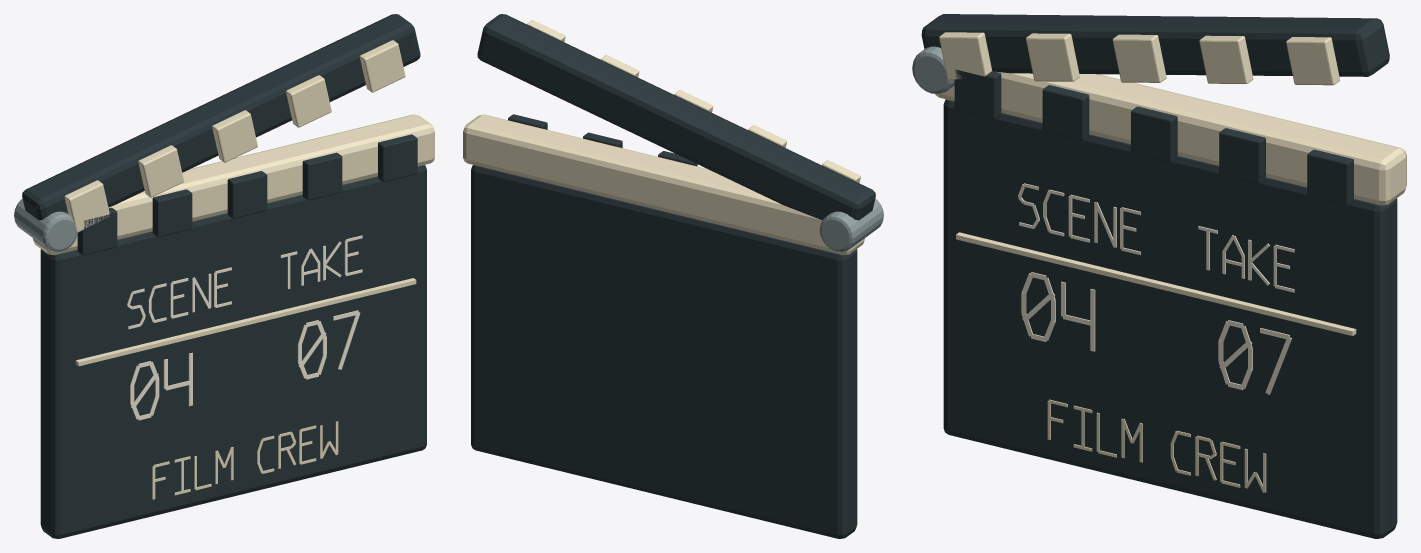
File: P051_clapperboard.glb
The picture shows the model from 3 angles, left to right: view 1: azimuth 30°, elevation 25°; view 2: azimuth 150°, elevation 25°; view 3: azimuth 330°, elevation 25°; orthographic projection. The views are drawn at different scales.
Parts seen in each view (by area): view 1: P051_slate_001, P051_clapper_top_003, P051_clapper_base_002, P051_numbers_015, P051_line_017, P051_header_014, P051_footer_018, P051_hinge_pin_016, P051_stripe_010, P051_stripe_006, P051_stripe_008, P051_stripe_009 (+6 smaller); view 2: P051_slate_001, P051_clapper_top_003, P051_clapper_base_002, P051_hinge_pin_016; view 3: P051_slate_001, P051_clapper_top_003, P051_clapper_base_002, P051_line_017, P051_numbers_015, P051_header_014, P051_footer_018, P051_stripe_006, P051_stripe_007, P051_stripe_012, P051_stripe_008, P051_stripe_010 (+6 smaller).
Part boxes in pixels (x1=…): P051_slate_001: x1=40, y1=165, x2=426, y2=538; P051_clapper_top_003: x1=22, y1=14, x2=420, y2=220; P051_clapper_base_002: x1=32, y1=114, x2=434, y2=254; P051_numbers_015: x1=130, y1=310, x2=360, y2=420; P051_line_017: x1=75, y1=278, x2=416, y2=366; P051_header_014: x1=127, y1=235, x2=362, y2=329; P051_footer_018: x1=152, y1=421, x2=338, y2=499; P051_hinge_pin_016: x1=14, y1=198, x2=77, y2=251; P051_stripe_010: x1=302, y1=152, x2=342, y2=200; P051_stripe_006: x1=152, y1=189, x2=192, y2=236; P051_stripe_008: x1=227, y1=171, x2=267, y2=218; P051_stripe_009: x1=212, y1=110, x2=257, y2=162; P051_slate_001: x1=471, y1=165, x2=857, y2=538; P051_clapper_top_003: x1=477, y1=14, x2=875, y2=220; P051_clapper_base_002: x1=463, y1=114, x2=865, y2=254; P051_hinge_pin_016: x1=819, y1=198, x2=883, y2=251; P051_slate_001: x1=943, y1=99, x2=1397, y2=538; P051_clapper_top_003: x1=921, y1=14, x2=1389, y2=76; P051_clapper_base_002: x1=935, y1=71, x2=1406, y2=205; P051_line_017: x1=956, y1=232, x2=1356, y2=335; P051_numbers_015: x1=1021, y1=272, x2=1291, y2=394; P051_header_014: x1=1017, y1=183, x2=1294, y2=292; P051_footer_018: x1=1047, y1=399, x2=1266, y2=492; P051_stripe_006: x1=1042, y1=85, x2=1089, y2=141; P051_stripe_007: x1=1026, y1=33, x2=1079, y2=81; P051_stripe_012: x1=1307, y1=149, x2=1353, y2=205; P051_stripe_008: x1=1131, y1=106, x2=1177, y2=162; P051_stripe_010: x1=1219, y1=128, x2=1265, y2=184.
Bounding box in the file's own units: 0.319 × 0.3294 × 0.0455.
